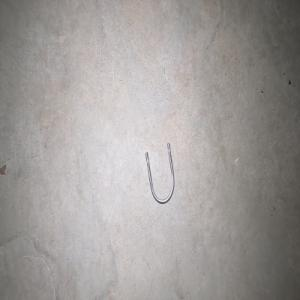ClampPart: (145, 142, 174, 204)
